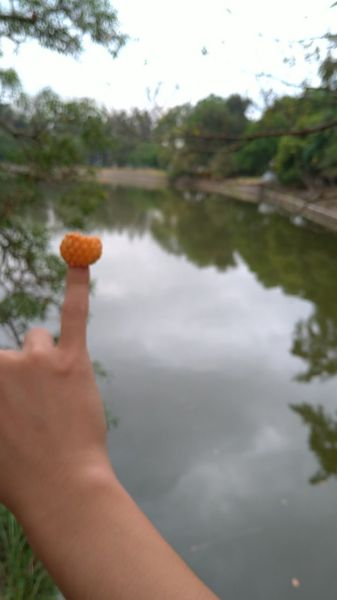eggs: (60, 232, 103, 269)
